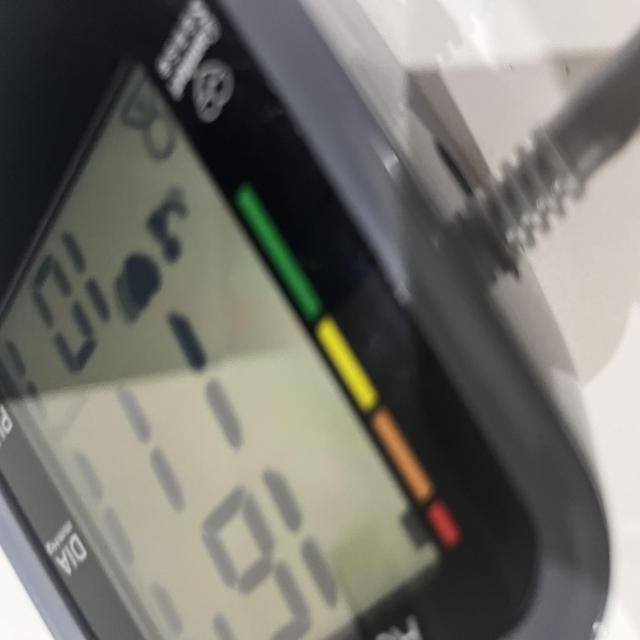bp: (0, 1, 544, 640)
